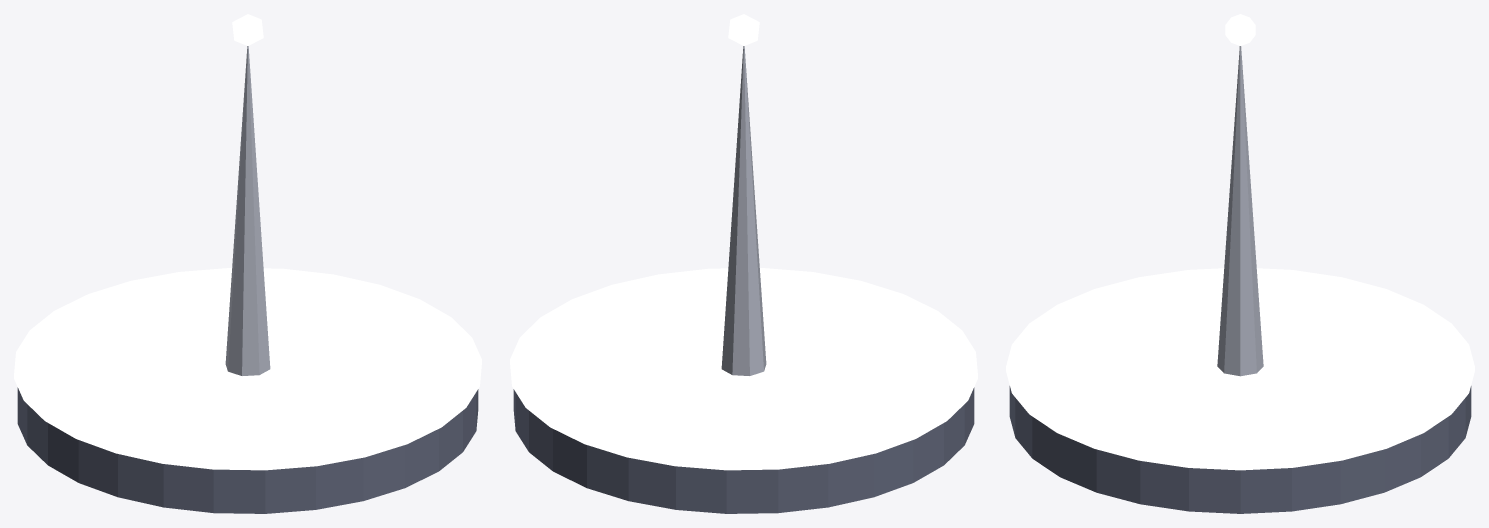
File: tower_spire.glb
3 renders of one model, left to right at view 1: azimuth 30°, elevation 25°; view 2: azimuth 150°, elevation 25°; view 3: azimuth 270°, elevation 25°, orthographic.
Visible parts, largest first — view 1: PodiumGlow, PodiumBase, Antenna, Beacon; view 2: PodiumGlow, PodiumBase, Antenna, Beacon; view 3: PodiumGlow, PodiumBase, Antenna, Beacon.
Boxes of the visible parts, left/top/right/bottom form: PodiumGlow: left=14, top=268, right=481, bottom=470; PodiumBase: left=17, top=387, right=478, bottom=513; Antenna: left=225, top=46, right=270, bottom=375; Beacon: left=232, top=14, right=263, bottom=45; PodiumGlow: left=510, top=268, right=977, bottom=470; PodiumBase: left=513, top=387, right=974, bottom=513; Antenna: left=721, top=46, right=766, bottom=375; Beacon: left=728, top=14, right=759, bottom=45; PodiumGlow: left=1006, top=268, right=1474, bottom=470; PodiumBase: left=1009, top=386, right=1471, bottom=513; Antenna: left=1217, top=46, right=1263, bottom=376; Beacon: left=1225, top=14, right=1255, bottom=45.
Bounding box in the file's own units: 26.4 × 25 × 26.4.
